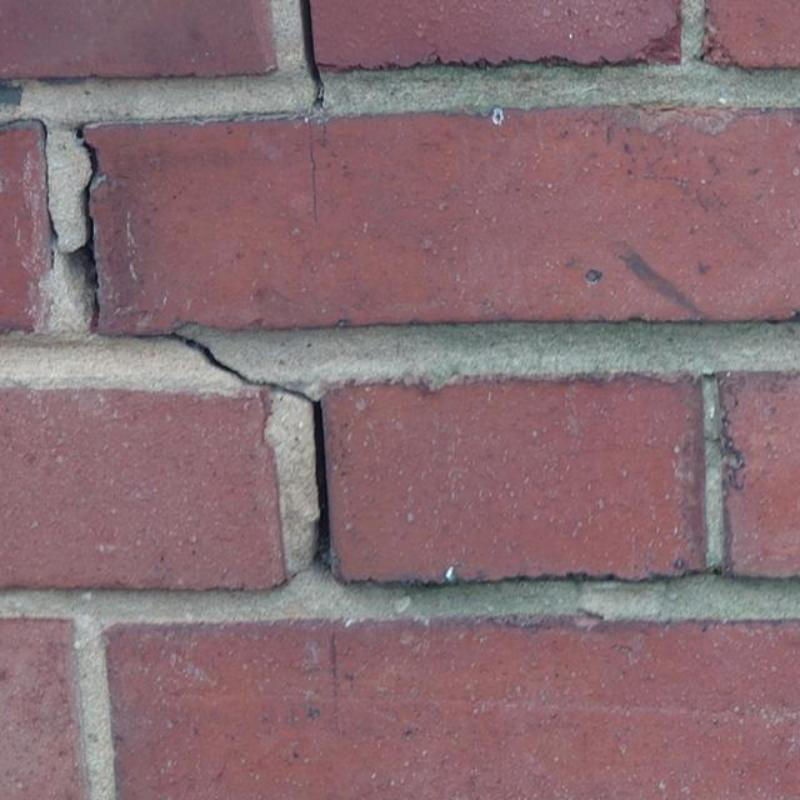pothole: (132, 332, 333, 576), (0, 118, 60, 270), (71, 120, 100, 331), (297, 0, 327, 112)
